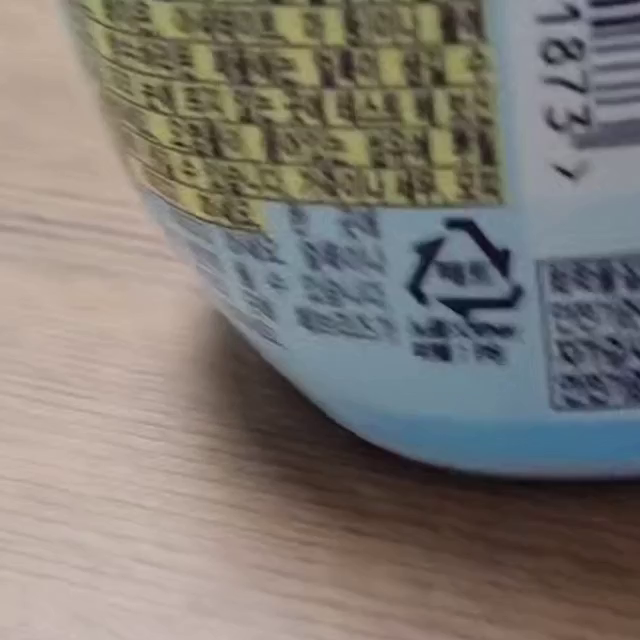Plastic: (405, 216, 526, 320)
